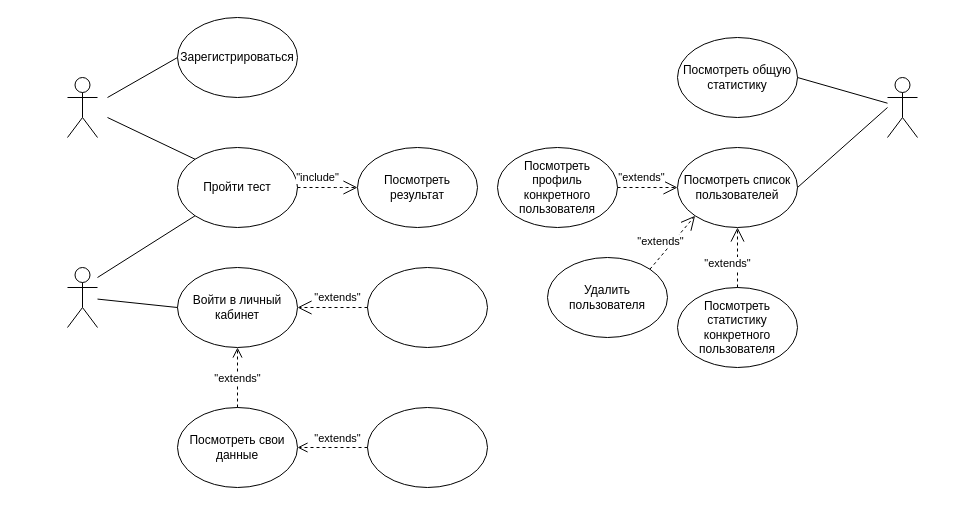
This 963x505 diagram has some shape labels left out. Each missing label, with the centre of its shape:
"Администратор" goes at point 902,107.
"Зарегистрированный пользователь" goes at point 82,297.
"Изменить свои данные" goes at point 427,447.
"Незарегистрированный пользователь" goes at point 82,107.
"Посмотреть свою статистику" goes at point 427,307.
